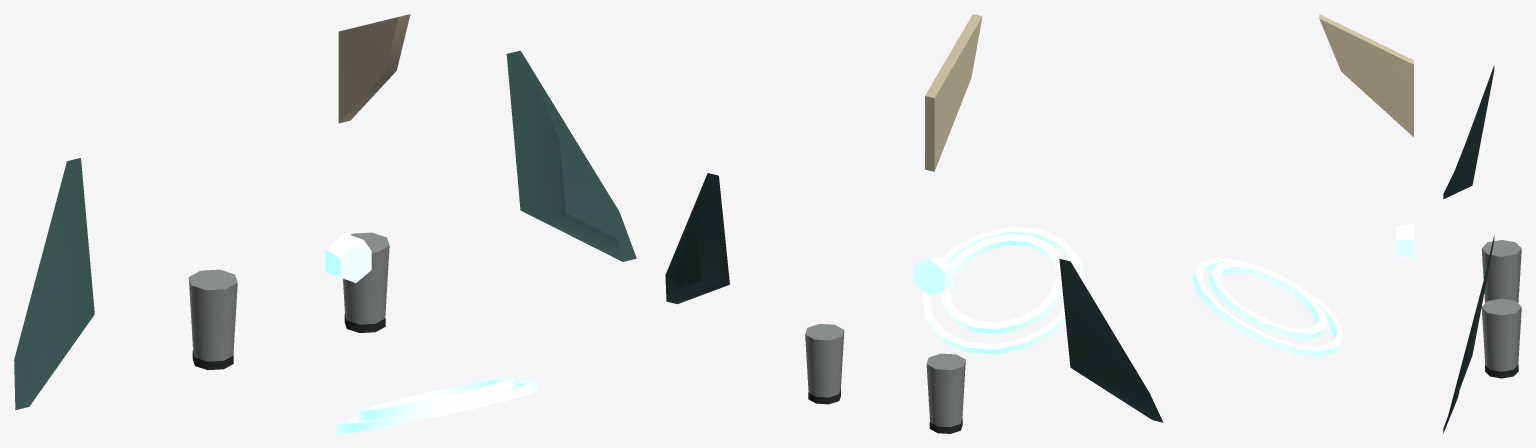
Rendered from spil9_marks.glb.
3 renders of one model, left to right at view 1: azimuth 30°, elevation 25°; view 2: azimuth 150°, elevation 25°; view 3: azimuth 270°, elevation 25°, orthographic. The views are drawn at different scales.
Visible parts, largest first — view 1: Mk2Fins, Mk4Exhaust, Mk5CoreCrest, Mk1Halo, Mk3Halo; view 2: Mk2Fins, Mk4Exhaust, Mk5CoreCrest, Mk1Halo, Mk3Halo; view 3: Mk5CoreCrest, Mk4Exhaust, Mk1Halo, Mk2Fins, Mk3Halo.
Boxes of the visible parts, x1,y1,x2,y2 form: Mk2Fins: (14, 50, 636, 410); Mk4Exhaust: (188, 232, 389, 369); Mk5CoreCrest: (325, 14, 410, 282); Mk1Halo: (357, 377, 516, 420); Mk3Halo: (335, 380, 538, 433); Mk2Fins: (665, 173, 1163, 422); Mk4Exhaust: (805, 324, 965, 433); Mk5CoreCrest: (914, 14, 982, 295); Mk1Halo: (941, 233, 1063, 334); Mk3Halo: (922, 226, 1084, 354); Mk5CoreCrest: (1319, 14, 1413, 259); Mk4Exhaust: (1481, 240, 1521, 378); Mk1Halo: (1208, 261, 1327, 340); Mk2Fins: (1443, 65, 1494, 433); Mk3Halo: (1192, 257, 1343, 356).
Bounding box in the file's own units: 1.55 × 0.985 × 0.9031.
